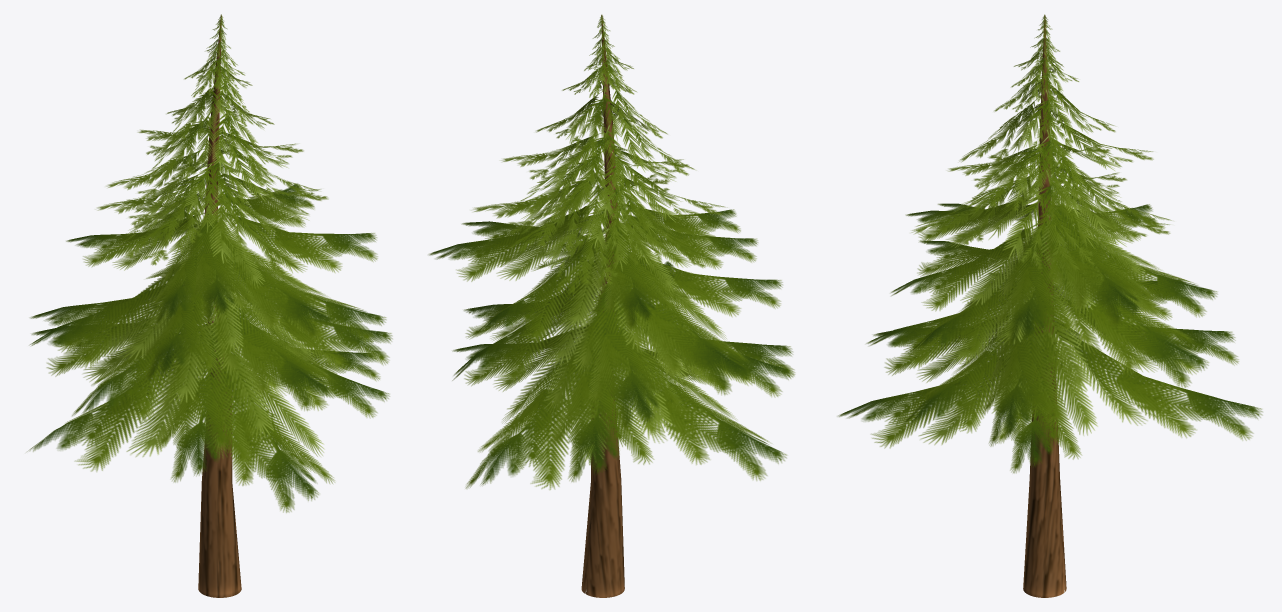
Rendered from pine_a.glb.
3 renders of one model, left to right at view 1: azimuth 30°, elevation 25°; view 2: azimuth 150°, elevation 25°; view 3: azimuth 270°, elevation 25°, orthographic.
Visible parts, largest first — view 1: Object_2; view 2: Object_2; view 3: Object_2.
Boxes of the visible parts, x1,y1,x2,y2 form: Object_2: (27, 14, 392, 597); Object_2: (428, 14, 794, 597); Object_2: (837, 14, 1262, 597).
Size of the model in its own units: 9.6 by 15 by 10.28.
Materials: 1 (1 with a texture image).
